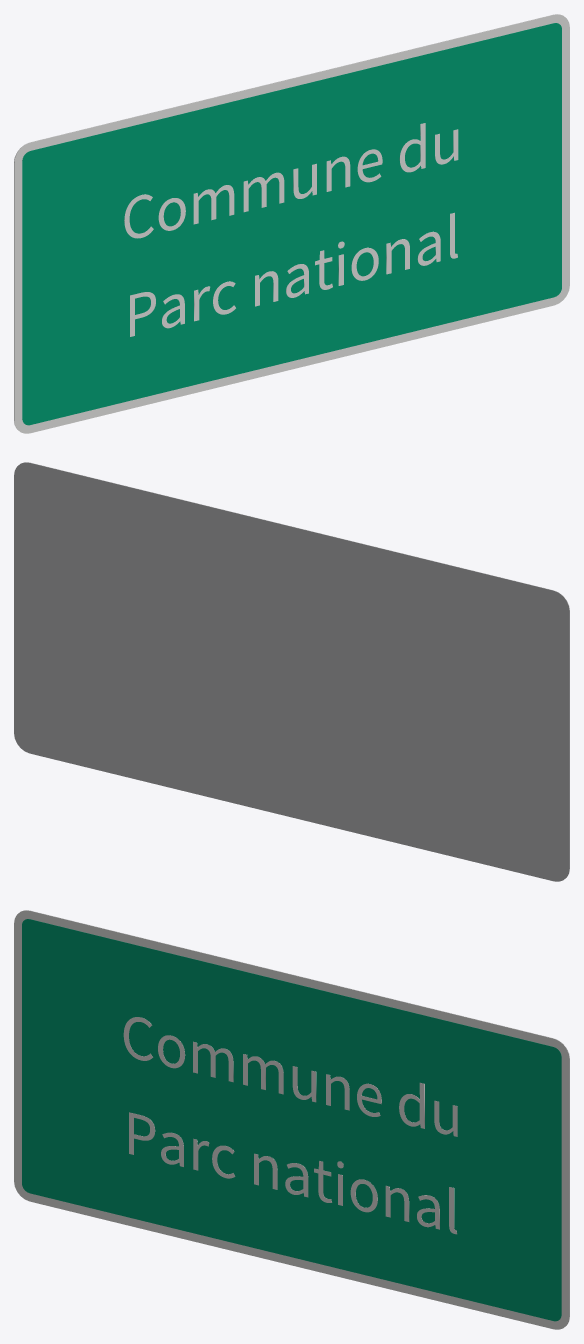
3 views of the same model, one above another, from view 1: azimuth 30°, elevation 25°; view 2: azimuth 150°, elevation 25°; view 3: azimuth 330°, elevation 25° (orthographic).
Visible parts, largest first — view 1: E33b_fond01, E33b_cadre00, E33b_txt02, E33b_txt03, E33b_dos; view 2: E33b_dos; view 3: E33b_fond01, E33b_cadre00, E33b_txt03, E33b_txt02, E33b_dos.
Part boxes in pixels (left/top/right/bottom): E33b_fond01: left=22, top=23, right=561, bottom=425; E33b_cadre00: left=14, top=14, right=569, bottom=433; E33b_txt02: left=124, top=123, right=458, bottom=238; E33b_txt03: left=130, top=212, right=457, bottom=336; E33b_dos: left=14, top=14, right=560, bottom=428; E33b_dos: left=14, top=462, right=569, bottom=881; E33b_fond01: left=22, top=919, right=561, bottom=1321; E33b_cadre00: left=14, top=910, right=569, bottom=1329; E33b_txt03: left=129, top=1112, right=457, bottom=1234; E33b_txt02: left=123, top=1017, right=457, bottom=1136; E33b_dos: left=23, top=910, right=569, bottom=1324.
Bounding box in the file's own units: 1.4 × 0.7 × 0.0029.
